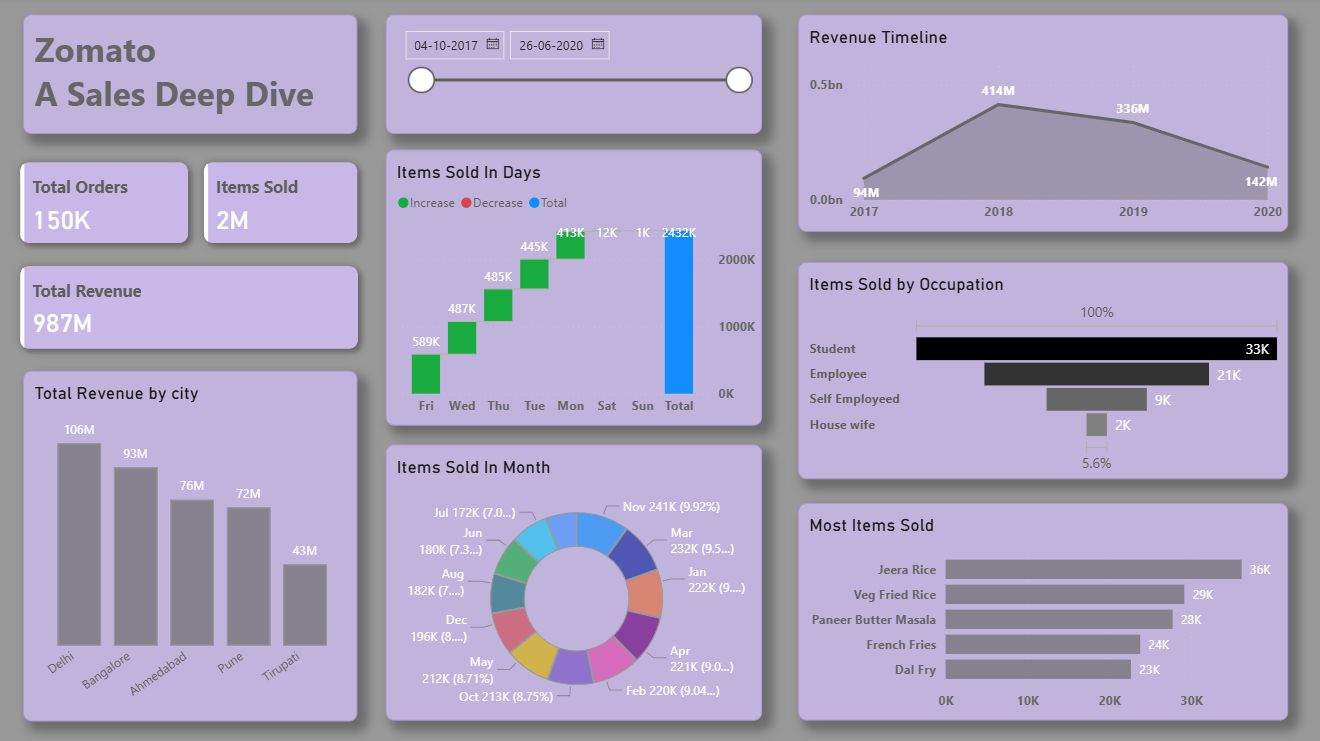

This screenshot's page, from the dashboard's own definition file:
{"tool":"powerbi","page":{"name":"Page 1","canvas":[1280,720],"ordinal":0},"visuals":[{"type":"funnel","title":"Items Sold by Occupation","fields":{"Category":["users.Occupation"],"Y":["orders.Items Sold"]},"box":[772.8,255.6,472.8,209.9],"z":3},{"type":"clusteredBarChart","title":"Most Items Sold","fields":{"Category":["food.item"],"Y":["orders.Items Sold"]},"box":[772.8,488.9,472.8,209.9],"z":4},{"type":"lineChart","title":"Revenue Timeline","fields":{"Y":["orders.revenue"],"Category":["orders.order_date.Variation.Date Hierarchy.Year","orders.order_date.Variation.Date Hierarchy.Quarter","orders.order_date.Variation.Date Hierarchy.Month","orders.order_date.Variation.Date Hierarchy.Day"]},"box":[772.8,17.3,472.8,209.9],"z":5},{"type":"donutChart","title":"Items Sold In Month","fields":{"Category":["orders.Month Name"],"Y":["orders.Items Sold"]},"box":[375.3,432.1,363,266.7],"z":6},{"type":"waterfallChart","title":"Items Sold In Days","fields":{"Category":["orders.Day Name"],"Y":["orders.Items Sold"]},"box":[375.3,146.9,363,266.7],"z":7},{"type":"columnChart","fields":{"Category":["restaurant.city"],"Y":["orders.Total Revenue"]},"box":[25.9,360.5,322.2,338.3],"z":8},{"type":"cardVisual","fields":{"Data":["orders.Total Orders"]},"box":[0,127.2,201.2,128.4],"z":9},{"type":"cardVisual","fields":{"Data":["orders.Items Sold"]},"box":[177.8,127.2,187.7,128.4],"z":10},{"type":"cardVisual","fields":{"Data":["orders.Total Revenue"]},"box":[0,227.2,365.4,130.9],"z":11},{"type":"slicer","fields":{"Values":["orders.order_date"]},"box":[375.3,17.3,363,114.8],"z":12},{"type":"textbox","box":[25.9,17.3,322.2,114.8],"z":13}]}

Visuals, with their boxes in screenshot pixels (x1, y1, x2, y2), scaled from the page's 1280x720 canvas onto the 1320x741 screenshot:
"Items Sold by Occupation" funnel: bbox=[797, 263, 1285, 479]
"Most Items Sold" clusteredBarChart: bbox=[797, 503, 1285, 719]
"Revenue Timeline" lineChart: bbox=[797, 18, 1285, 234]
"Items Sold In Month" donutChart: bbox=[387, 445, 761, 719]
"Items Sold In Days" waterfallChart: bbox=[387, 151, 761, 426]
columnChart - restaurant.city x orders.Total Revenue: bbox=[27, 371, 359, 719]
cardVisual - orders.Total Orders: bbox=[0, 131, 207, 263]
cardVisual - orders.Items Sold: bbox=[183, 131, 377, 263]
cardVisual - orders.Total Revenue: bbox=[0, 234, 377, 369]
slicer - orders.order_date: bbox=[387, 18, 761, 136]
textbox: bbox=[27, 18, 359, 136]
